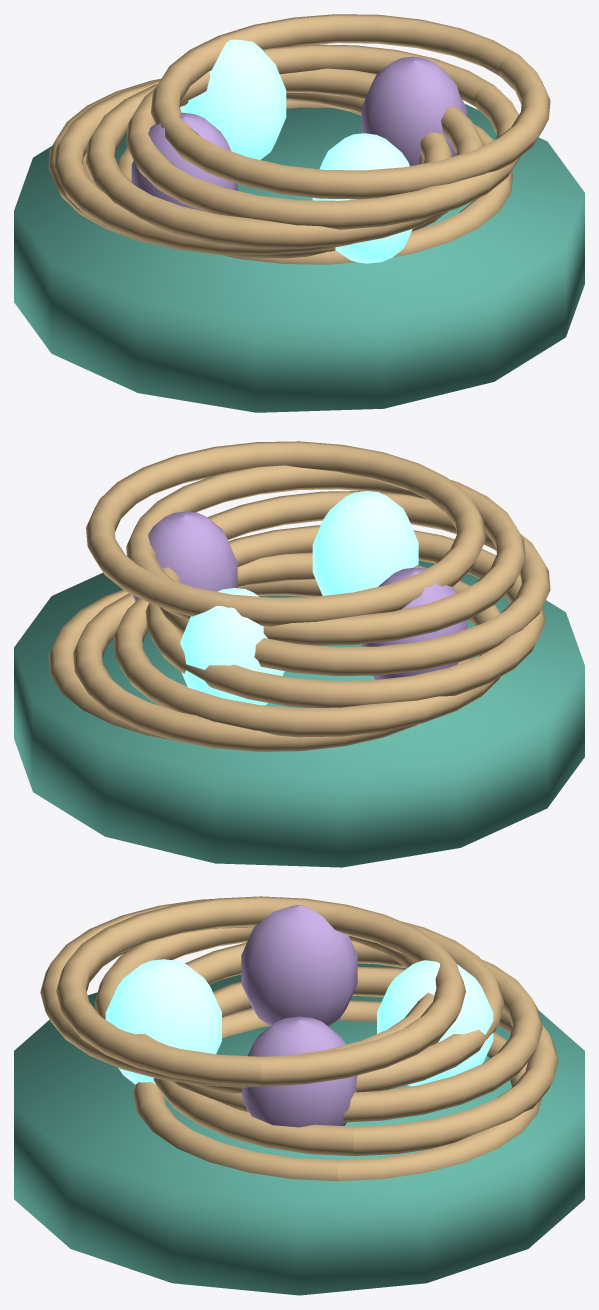
The model's file is orn_wisp_nest.glb.
3 views of the same model, one above another, from view 1: azimuth 30°, elevation 25°; view 2: azimuth 150°, elevation 25°; view 3: azimuth 270°, elevation 25° (orthographic). The views are drawn at different scales.
Visible parts, largest first — view 1: ORN_wisp_nest_nest_base, ORN_wisp_nest_braided_nest_7, ORN_wisp_nest_braided_nest_6, ORN_wisp_nest_braided_nest_5, ORN_wisp_nest_braided_nest_4, ORN_wisp_nest_sleeping_wisp_1, ORN_wisp_nest_sleeping_wisp_0, ORN_wisp_nest_braided_nest_1, ORN_wisp_nest_sleeping_wisp_3, ORN_wisp_nest_sleeping_wisp_2, ORN_wisp_nest_braided_nest_3, ORN_wisp_nest_braided_nest_2; view 2: ORN_wisp_nest_nest_base, ORN_wisp_nest_braided_nest_7, ORN_wisp_nest_braided_nest_6, ORN_wisp_nest_braided_nest_5, ORN_wisp_nest_braided_nest_4, ORN_wisp_nest_braided_nest_3, ORN_wisp_nest_braided_nest_2, ORN_wisp_nest_sleeping_wisp_3, ORN_wisp_nest_sleeping_wisp_0, ORN_wisp_nest_sleeping_wisp_1, ORN_wisp_nest_braided_nest_1, ORN_wisp_nest_sleeping_wisp_2; view 3: ORN_wisp_nest_nest_base, ORN_wisp_nest_braided_nest_7, ORN_wisp_nest_braided_nest_2, ORN_wisp_nest_braided_nest_1, ORN_wisp_nest_sleeping_wisp_2, ORN_wisp_nest_braided_nest_3, ORN_wisp_nest_braided_nest_4, ORN_wisp_nest_sleeping_wisp_3, ORN_wisp_nest_sleeping_wisp_0, ORN_wisp_nest_sleeping_wisp_1, ORN_wisp_nest_braided_nest_6.
Part boxes in pixels (x1,y1,x2,y2): ORN_wisp_nest_nest_base: (14,104,584,412); ORN_wisp_nest_braided_nest_7: (151,14,550,199); ORN_wisp_nest_braided_nest_6: (126,44,519,229); ORN_wisp_nest_braided_nest_5: (86,68,483,248); ORN_wisp_nest_braided_nest_4: (53,80,453,255); ORN_wisp_nest_sleeping_wisp_1: (180,39,286,159); ORN_wisp_nest_sleeping_wisp_0: (361,56,467,165); ORN_wisp_nest_braided_nest_1: (117,101,512,264); ORN_wisp_nest_sleeping_wisp_3: (312,133,412,263); ORN_wisp_nest_sleeping_wisp_2: (131,112,237,211); ORN_wisp_nest_braided_nest_3: (48,79,424,254); ORN_wisp_nest_braided_nest_2: (82,100,442,258); ORN_wisp_nest_nest_base: (14,560,584,867); ORN_wisp_nest_braided_nest_7: (86,441,485,626); ORN_wisp_nest_braided_nest_6: (126,465,525,645); ORN_wisp_nest_braided_nest_5: (159,491,550,675); ORN_wisp_nest_braided_nest_4: (145,525,545,708); ORN_wisp_nest_braided_nest_3: (113,552,500,737); ORN_wisp_nest_braided_nest_2: (73,579,472,751); ORN_wisp_nest_sleeping_wisp_3: (312,491,418,595); ORN_wisp_nest_sleeping_wisp_0: (132,511,237,601); ORN_wisp_nest_sleeping_wisp_1: (180,588,284,705); ORN_wisp_nest_braided_nest_1: (48,589,172,740); ORN_wisp_nest_sleeping_wisp_2: (361,567,467,679); ORN_wisp_nest_nest_base: (14,963,584,1295); ORN_wisp_nest_braided_nest_7: (56,896,465,1086); ORN_wisp_nest_braided_nest_2: (153,966,558,1156); ORN_wisp_nest_braided_nest_1: (133,1000,541,1181); ORN_wisp_nest_sleeping_wisp_2: (241,905,357,1026); ORN_wisp_nest_braided_nest_3: (171,942,542,1122); ORN_wisp_nest_braided_nest_4: (94,921,504,1093); ORN_wisp_nest_sleeping_wisp_3: (105,959,221,1084); ORN_wisp_nest_sleeping_wisp_0: (241,1016,357,1127); ORN_wisp_nest_sleeping_wisp_1: (377,960,493,1086); ORN_wisp_nest_braided_nest_6: (40,899,434,1087).
Size of the model in its own units: 1.08 by 0.4273 by 1.05.
